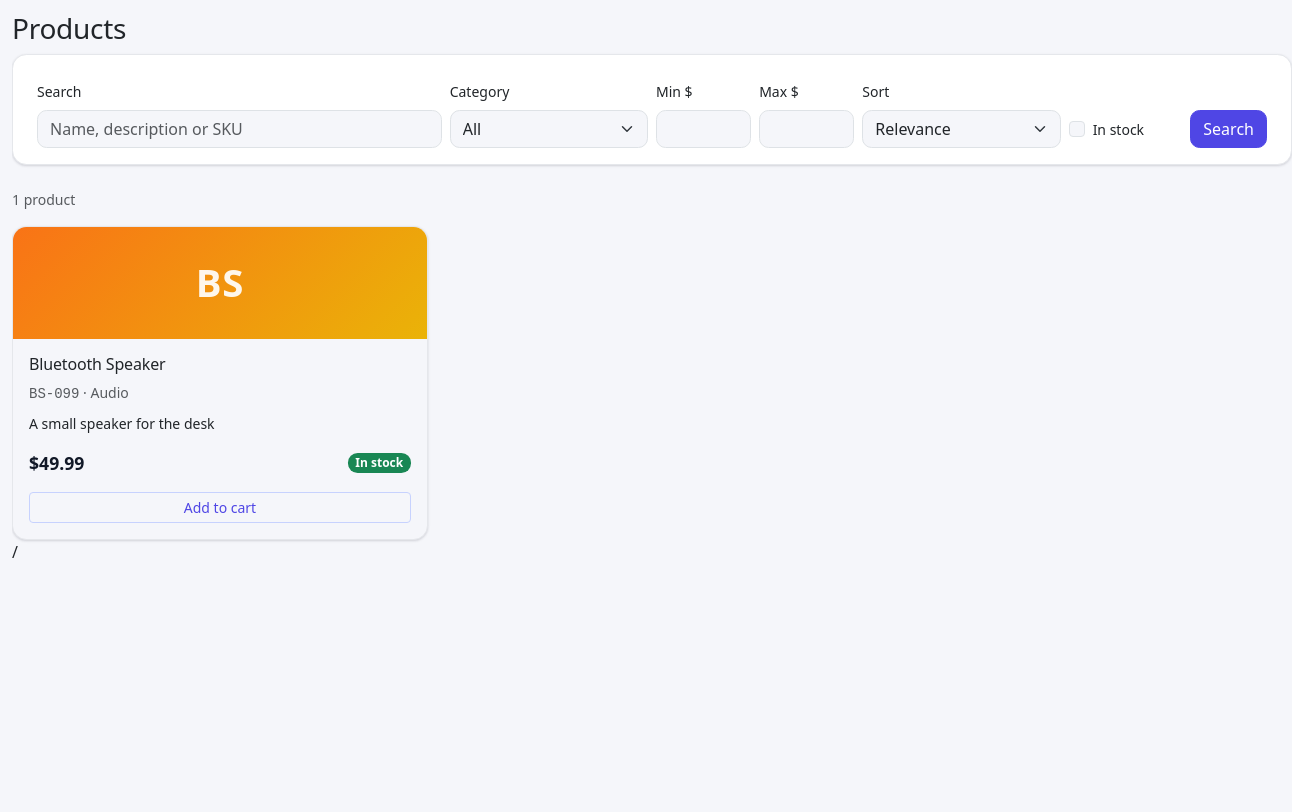
Test: ShopPage › applies typed text and prices on Search and leaves out the empty filters
The image size is (1292, 812).
Type "speaker" into the field labelled "Search" at coordinates (239, 129), box [37, 110, 442, 148]
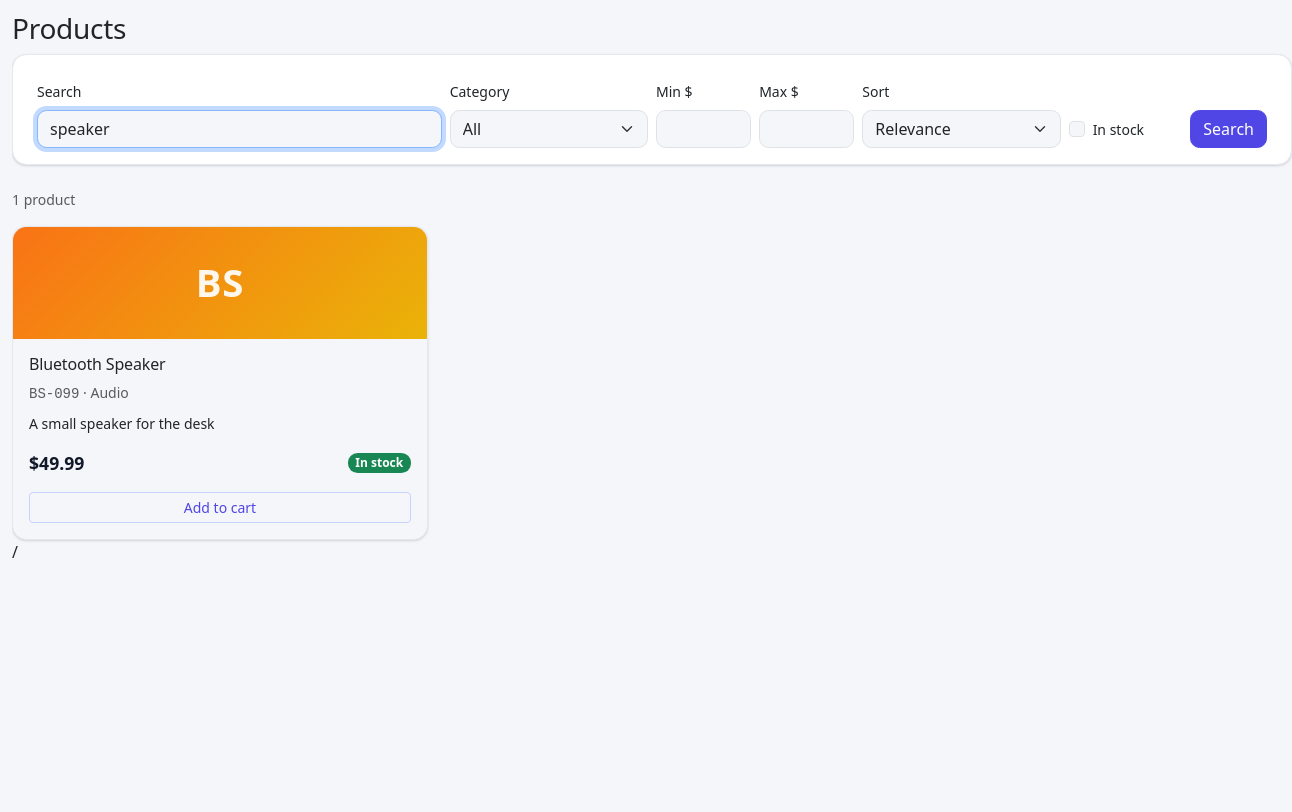
Type "10" into the number field labelled "Min $" at coordinates (704, 129), box [656, 110, 751, 148]
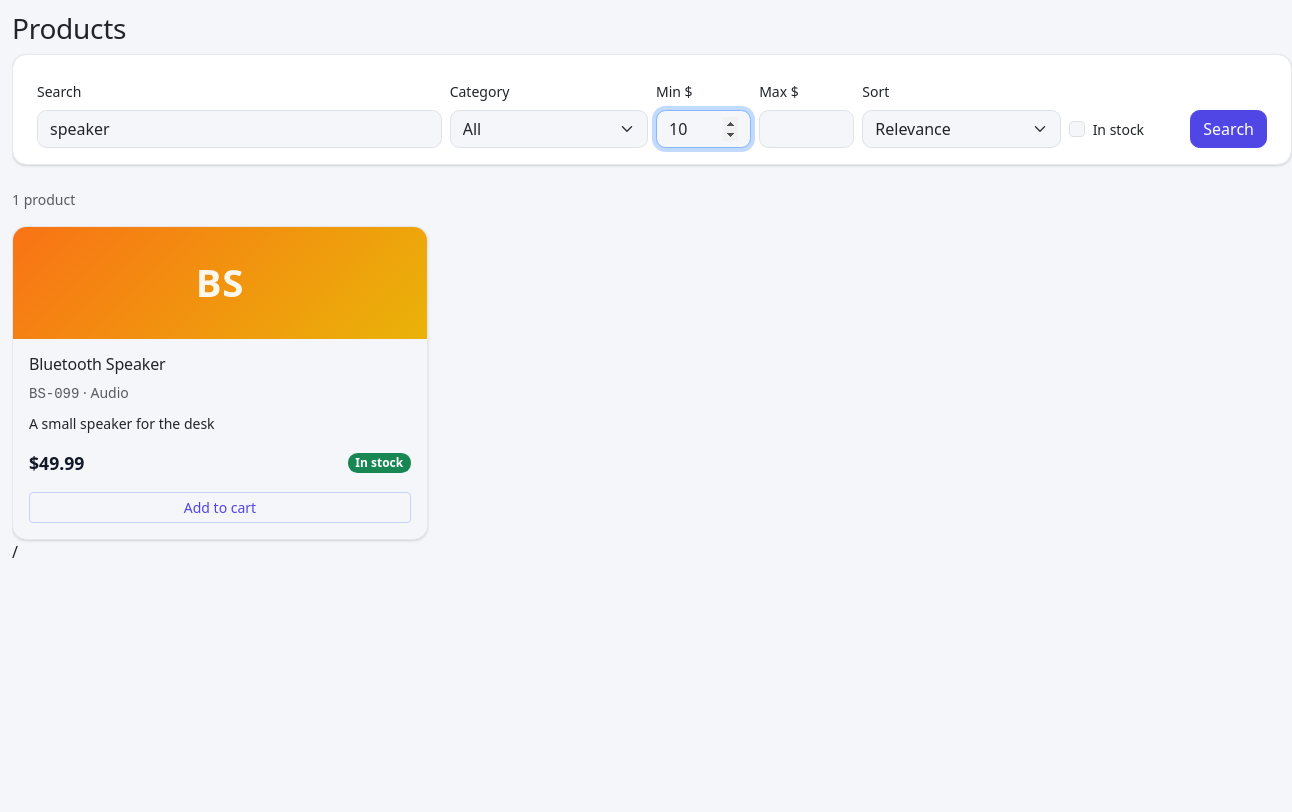
Type "50" into the number field labelled "Max $" at coordinates (807, 129), box [759, 110, 854, 148]
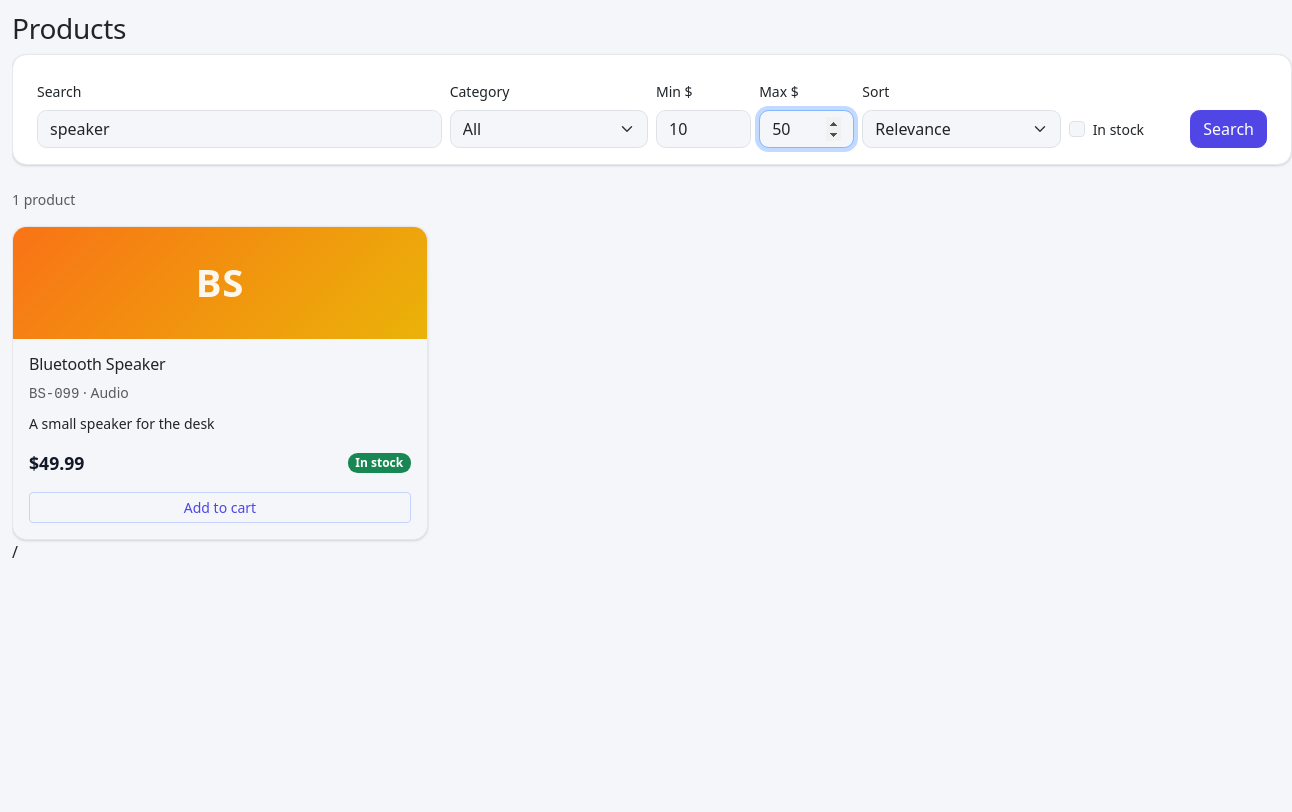
Click the button "Search" at coordinates (1229, 129), box [1190, 110, 1267, 148]
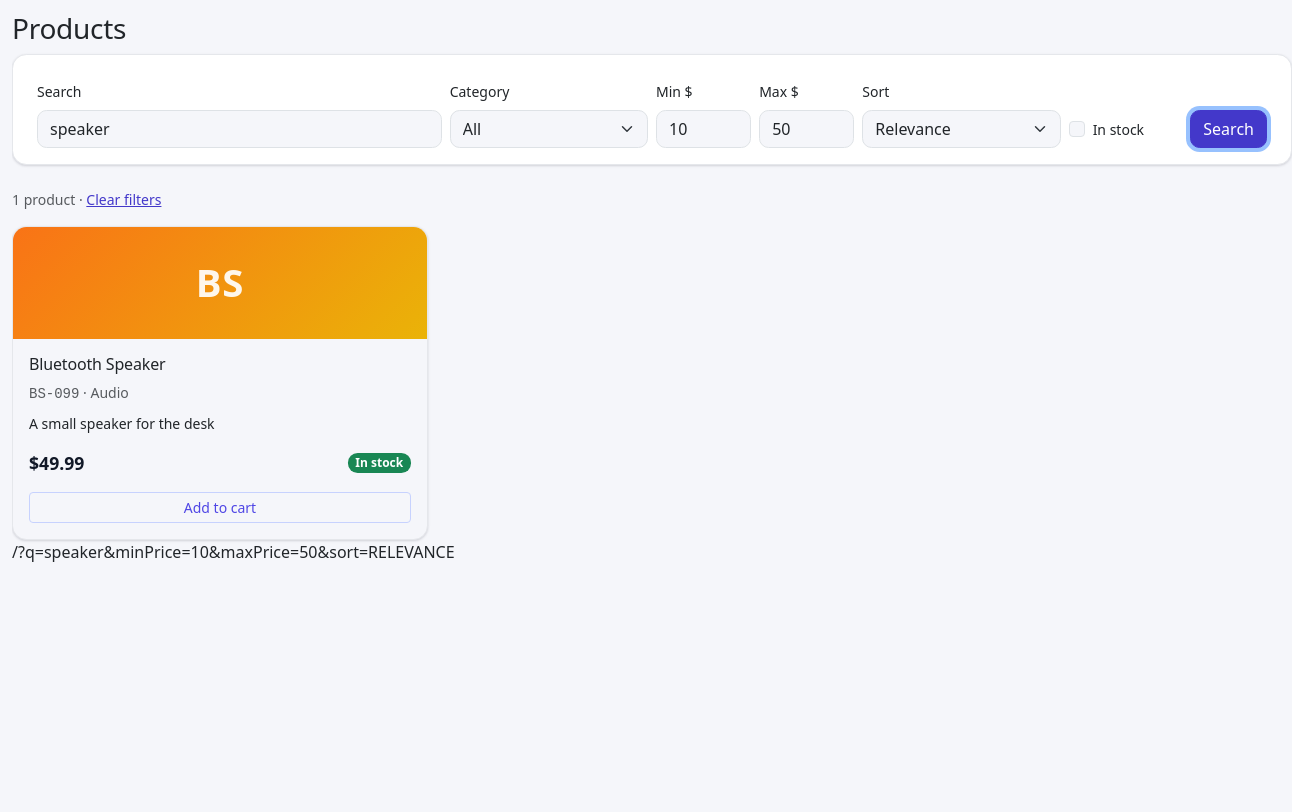
Check: the text with test id "location" reads "/?q=speaker&minPrice=10&maxPrice=50&sort=RELEVANCE", box [18, 541, 455, 563]
